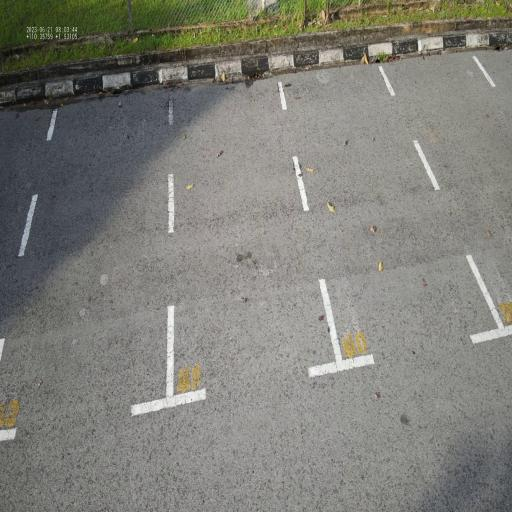Empty: (166, 62, 346, 417)
